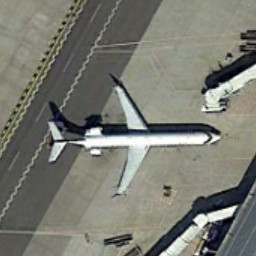Airplane: (40, 70, 231, 205)
